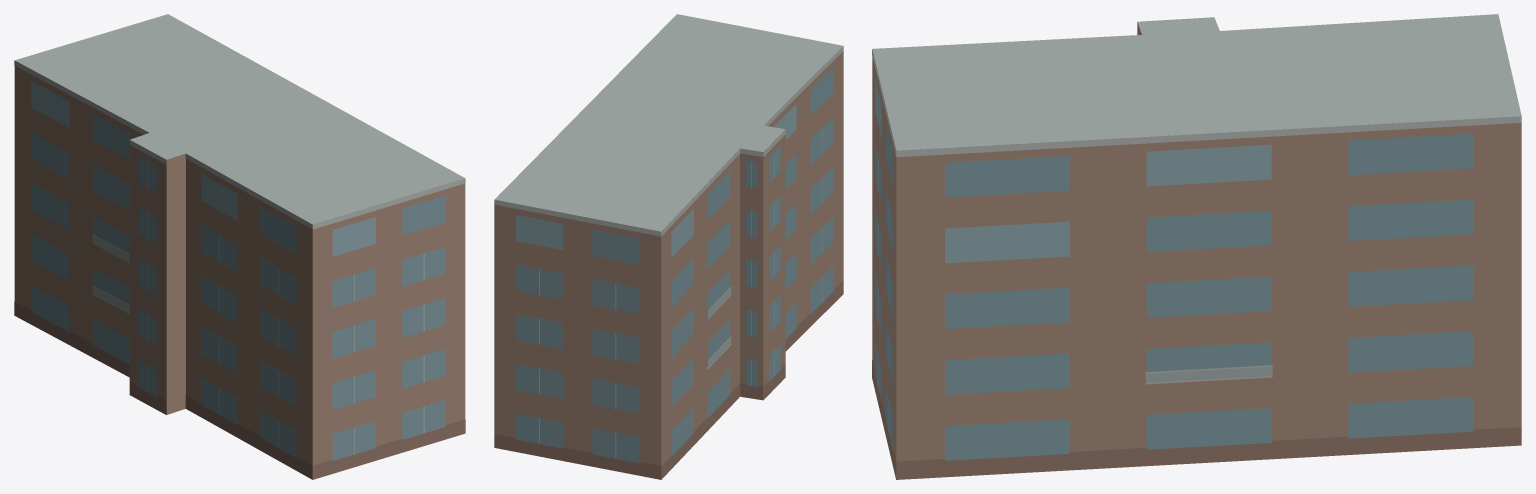
Rendered from survey-upis-33045690.glb.
3 views of the same model, side by side, from view 1: azimuth 30°, elevation 25°; view 2: azimuth 150°, elevation 25°; view 3: azimuth 270°, elevation 25° (orthographic). The views are drawn at different scales.
Parts seen in each view (by area): view 1: survey-upis-33045690.tmp; view 2: survey-upis-33045690.tmp; view 3: survey-upis-33045690.tmp.
Part boxes in pixels (x1,y1,x2,y2): survey-upis-33045690.tmp: (14,14,465,479); survey-upis-33045690.tmp: (494,14,843,479); survey-upis-33045690.tmp: (872,14,1521,479).
Size of the model in its own units: 10.97 by 12.3 by 22.01.
